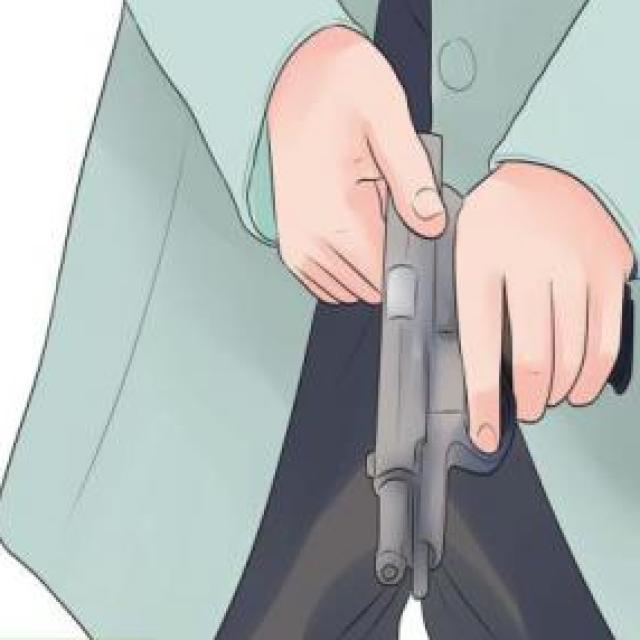pistol: (371, 130, 638, 608)
